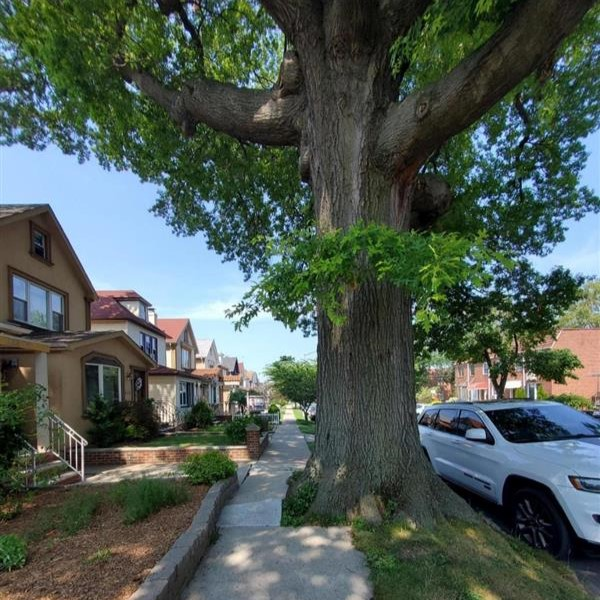Car: (418, 389, 600, 561)
Tree: (91, 1, 513, 534)
